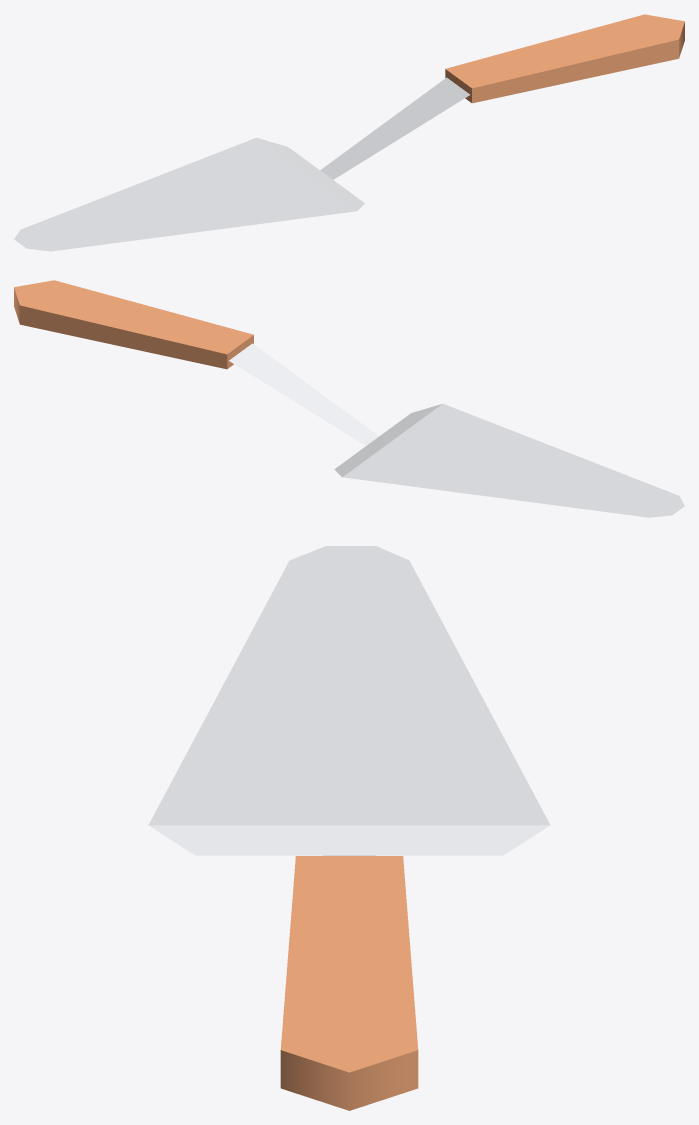
The model's file is Cake_Slicer.glb.
3 views of the same model, one above another, from view 1: azimuth 30°, elevation 25°; view 2: azimuth 150°, elevation 25°; view 3: azimuth 270°, elevation 25° (orthographic). The views are drawn at different scales.
Visible parts, largest first — view 1: cakeSlicer; view 2: cakeSlicer; view 3: cakeSlicer.
Boxes of the visible parts, <box> form: cakeSlicer: <box>14,14,684,251</box>; cakeSlicer: <box>14,280,684,517</box>; cakeSlicer: <box>148,546,550,1110</box>.
Size of the model in its own units: 0.7246 by 0.0692 by 0.19.
